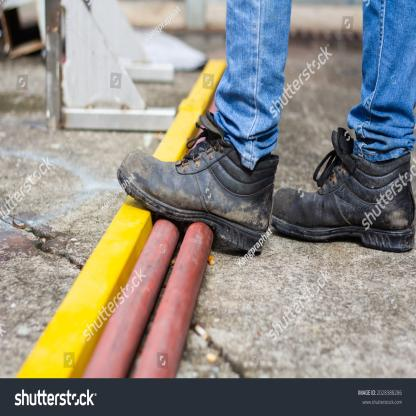bota: (116, 104, 279, 258), (270, 127, 416, 254)
